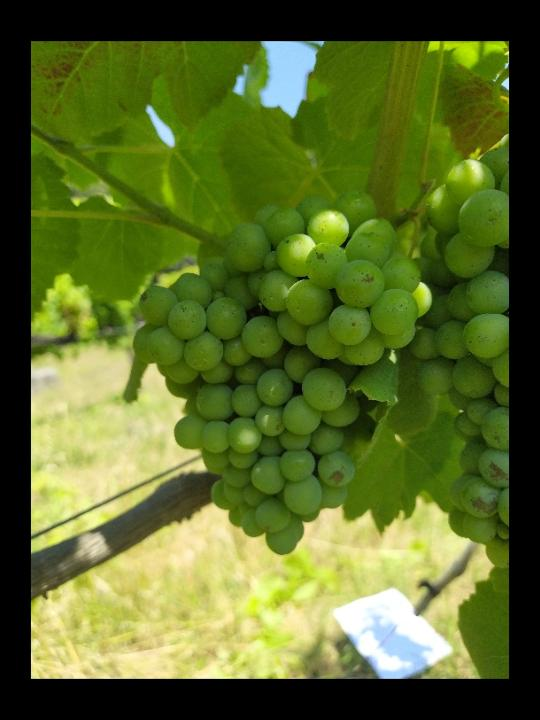grape: (129, 188, 432, 561)
